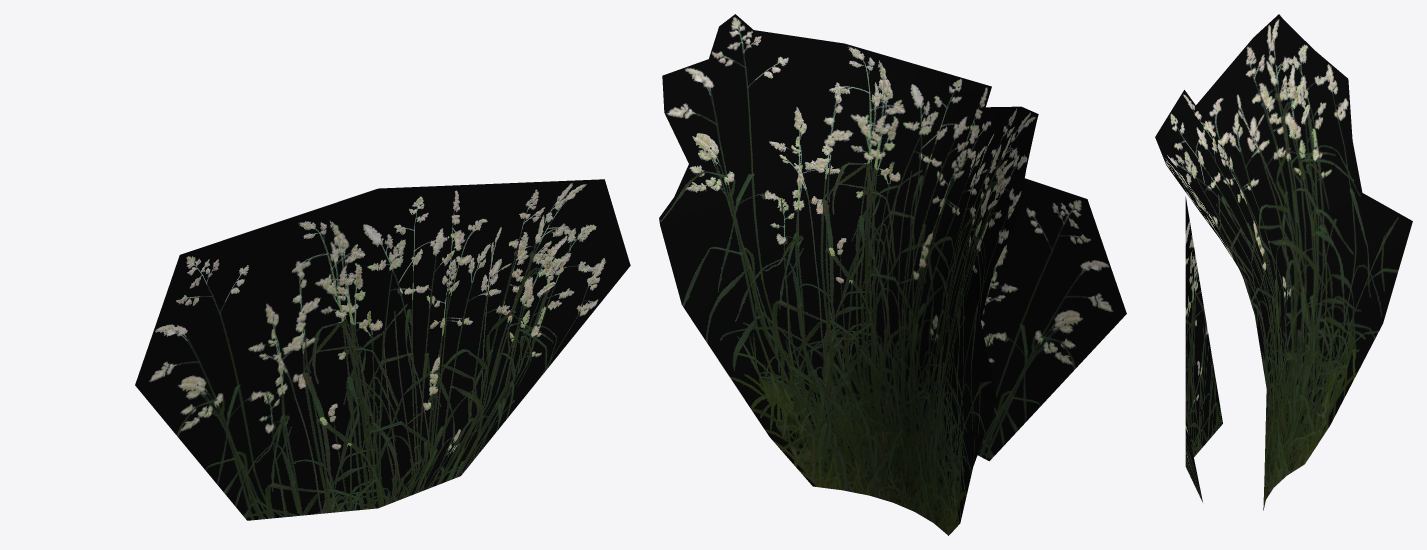
Rendered from plantas.obj.
The picture shows the model from 3 angles, left to right: view 1: azimuth 30°, elevation 25°; view 2: azimuth 150°, elevation 25°; view 3: azimuth 270°, elevation 25°; orthographic projection. The views are drawn at different scales.
Visible parts, largest first — view 1: trawa01:Mesh polySurface2; view 2: polySurface1 trawa01:Mesh, trawa01:Mesh polySurface2; view 3: polySurface1 trawa01:Mesh, trawa01:Mesh polySurface2.
Part boxes in pixels (x1=…): trawa01:Mesh polySurface2: x1=135, y1=179, x2=630, y2=520; polySurface1 trawa01:Mesh: x1=659, y1=14, x2=1038, y2=535; trawa01:Mesh polySurface2: x1=977, y1=178, x2=1126, y2=461; polySurface1 trawa01:Mesh: x1=1155, y1=14, x2=1412, y2=510; trawa01:Mesh polySurface2: x1=1185, y1=196, x2=1222, y2=502.
Size of the model in its own units: 1.1 by 1.04 by 0.5858.
1 material, 1 textured.
